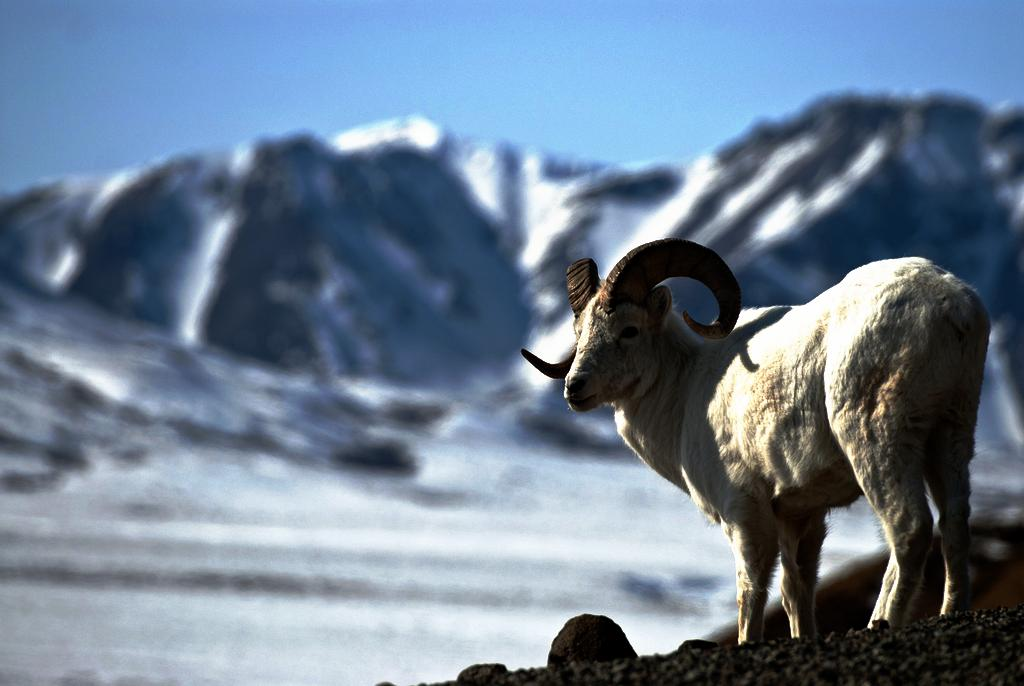Sheep: (520, 243, 990, 645)
